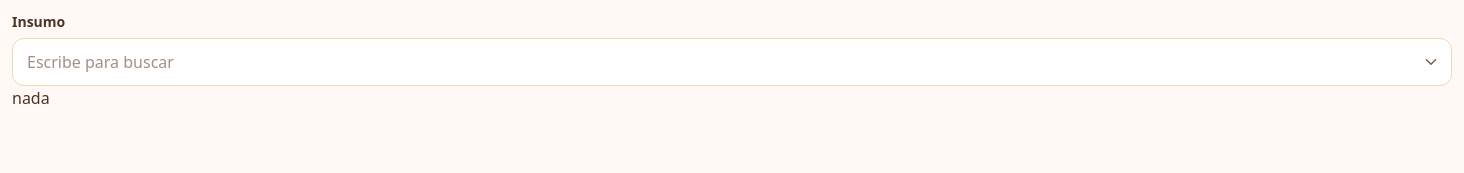
Test: Buscador › avisa cuando nada coincide
Type "chocolate" into the dropdown labelled "Insumo" at (732, 62), box top-left (12, 38), bottom-right (1452, 86)
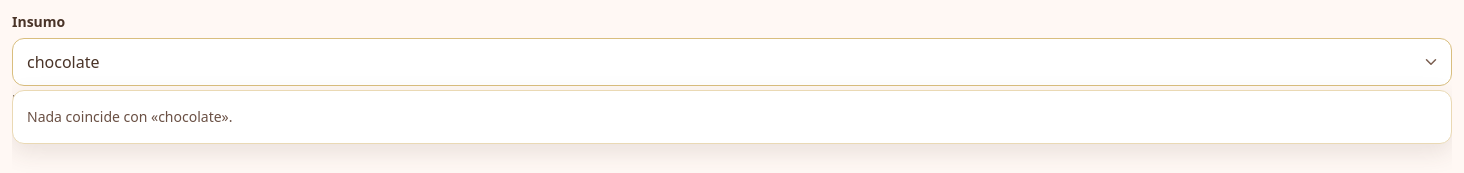
Expected: the list item "Nada coincide con «chocolate»." is shown, top-left (27, 107), bottom-right (232, 126)
